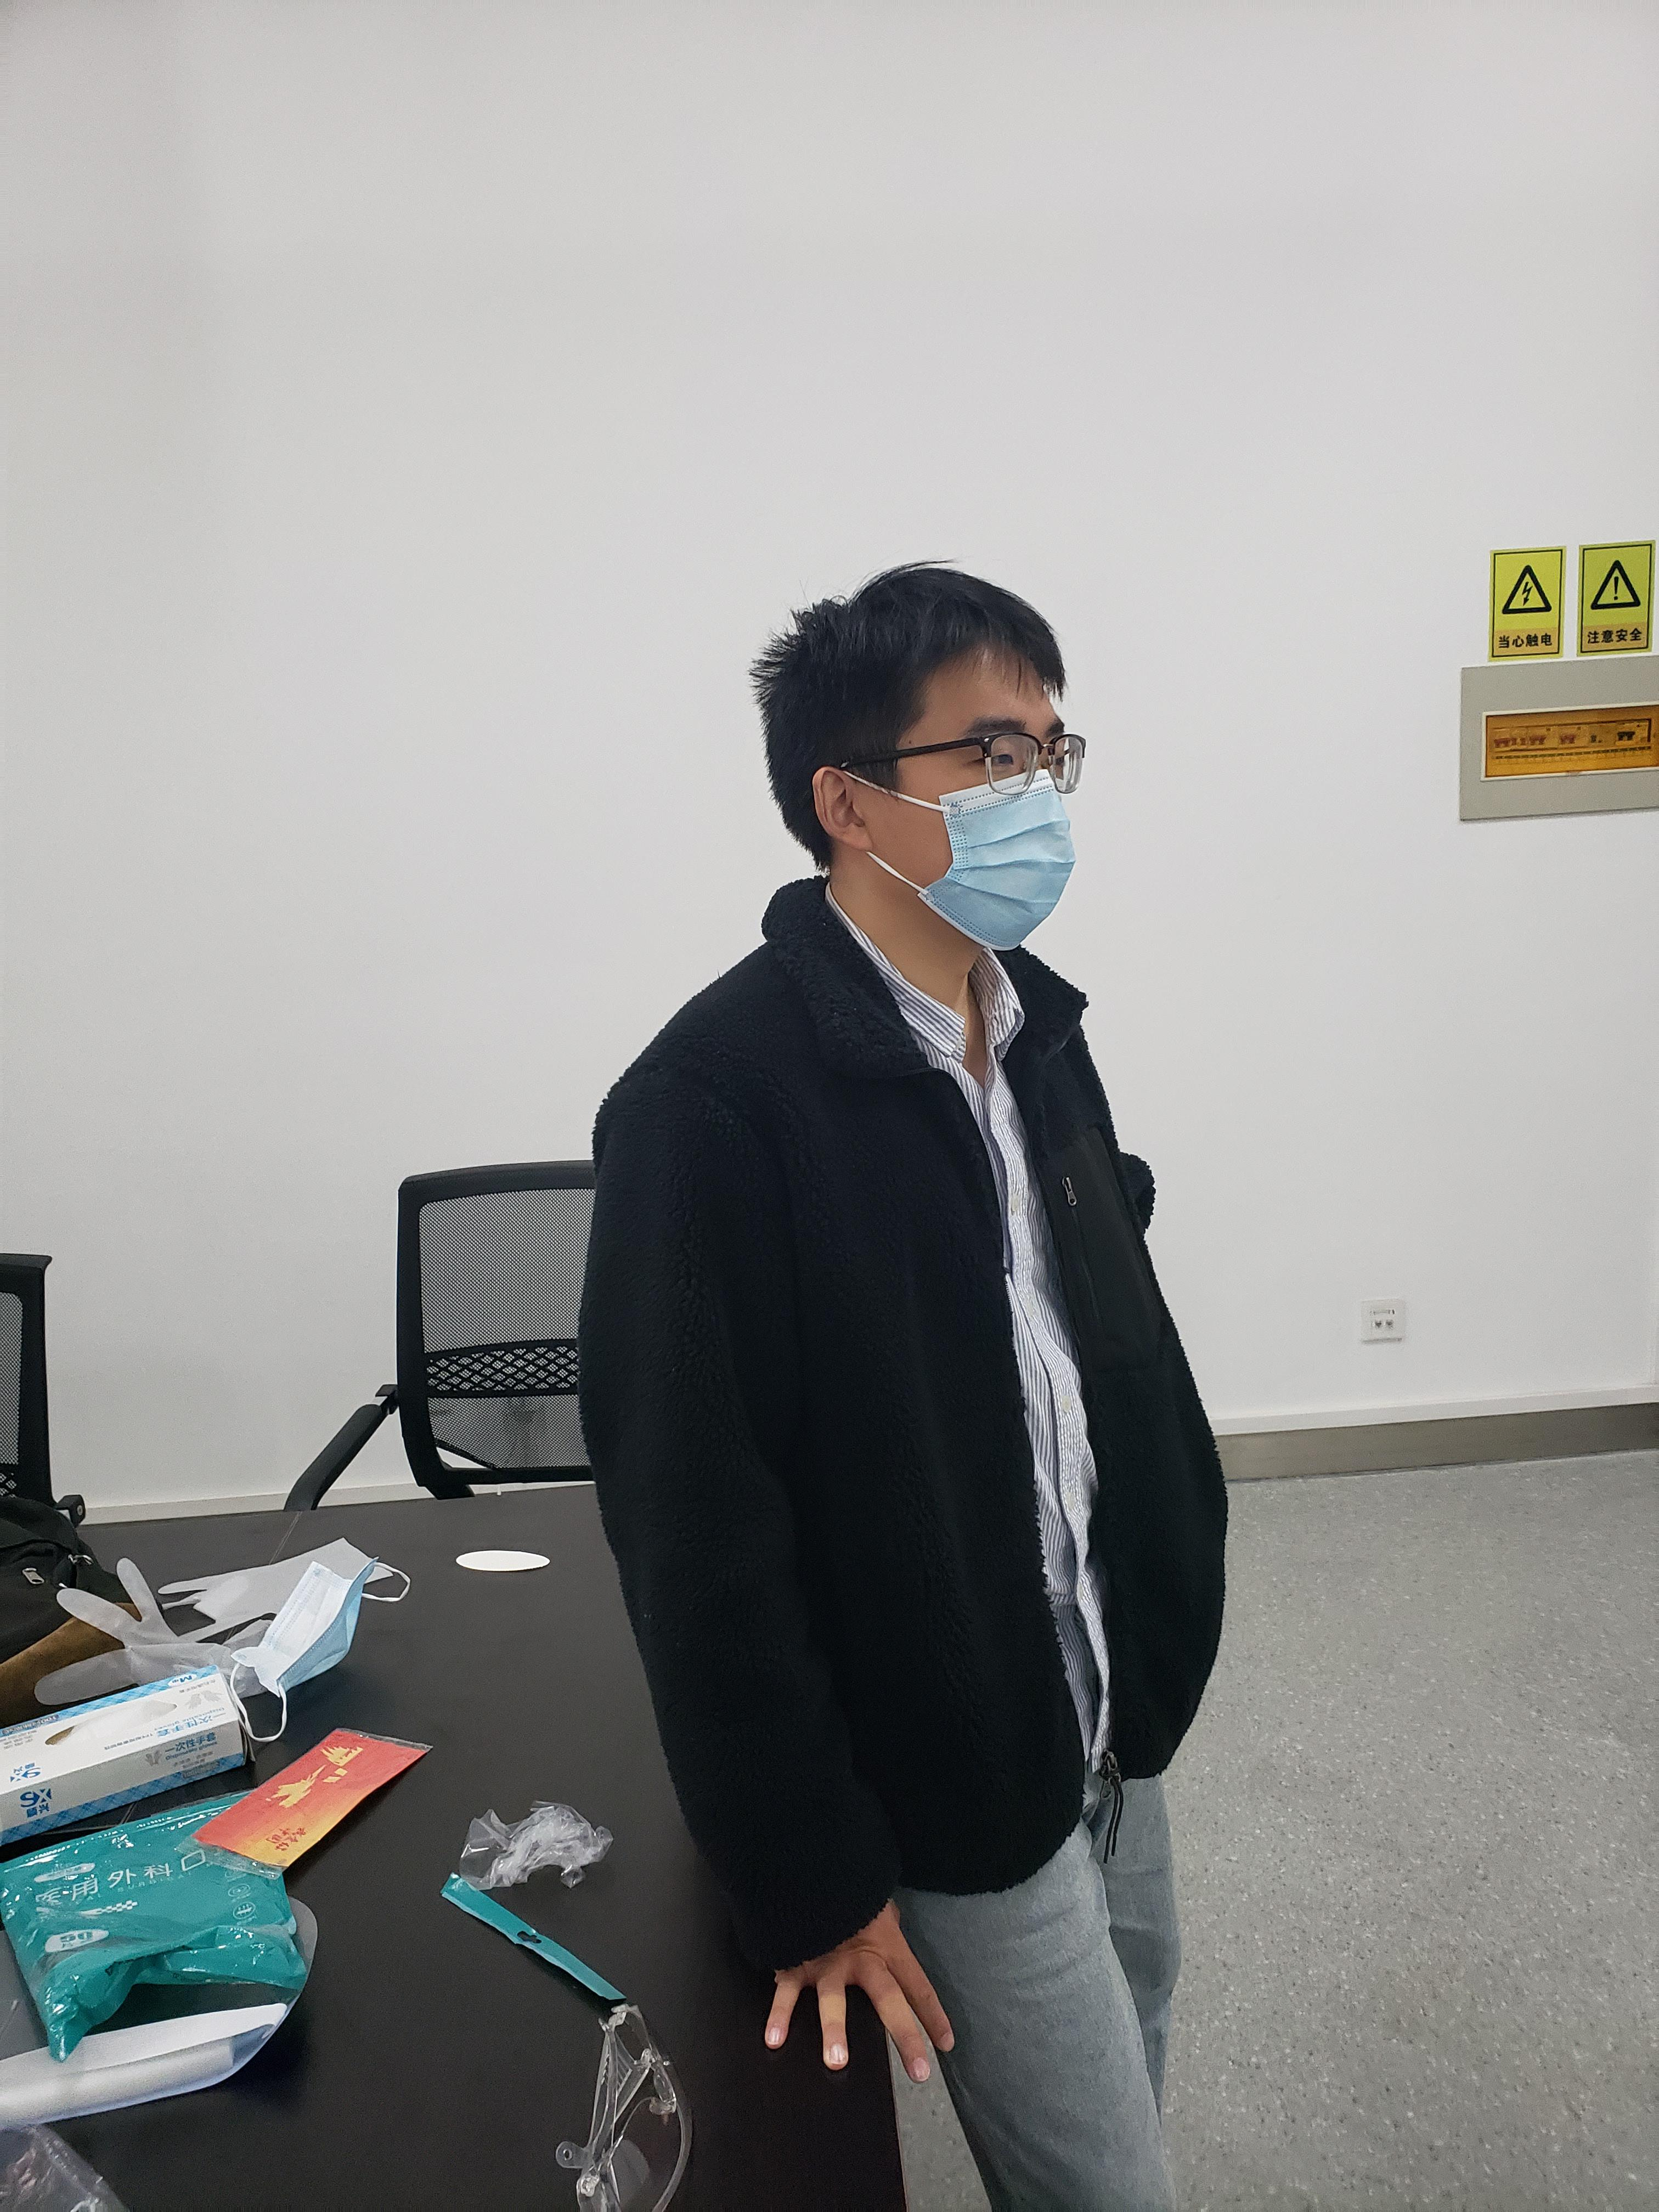Mask: (831, 763, 1077, 965)
